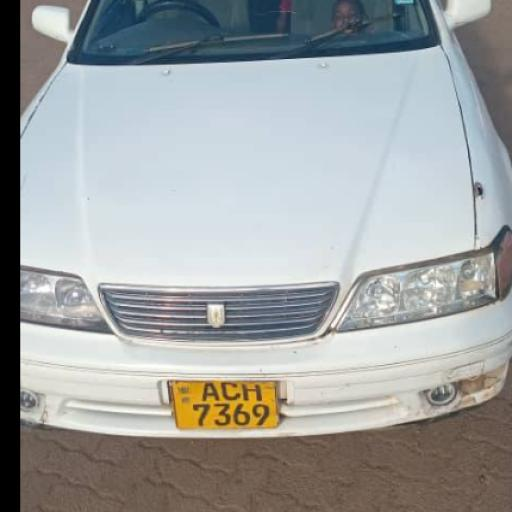number-plates: (179, 380, 272, 430)
